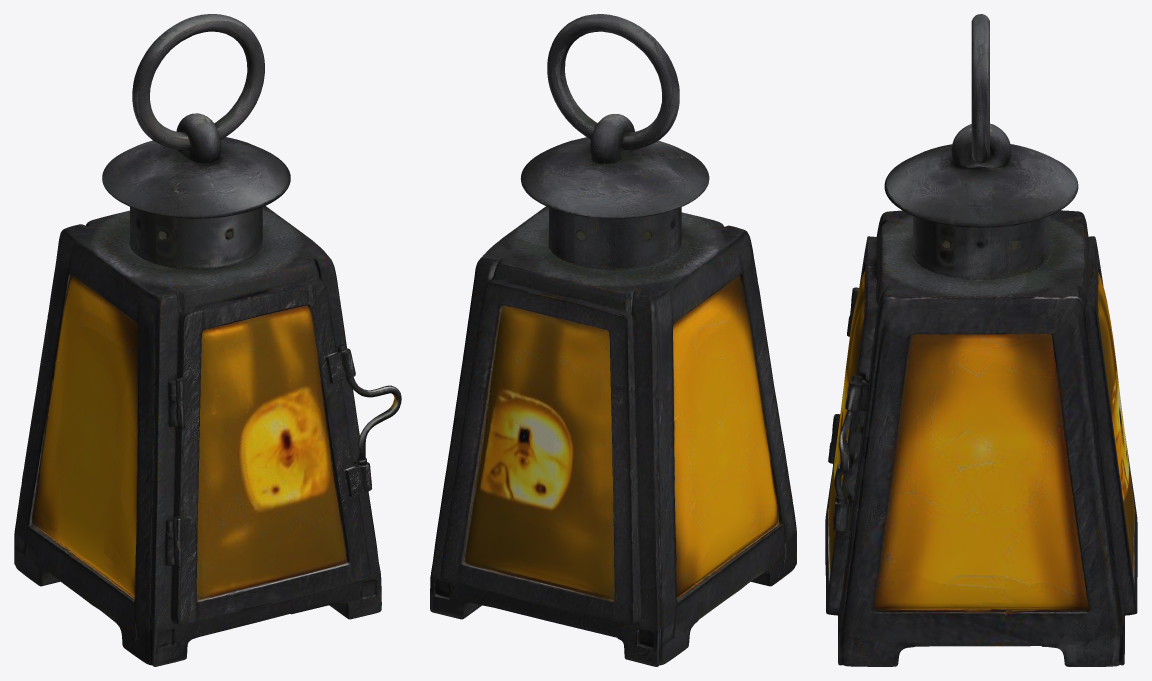
The model's file is sv_amberlantern.glb.
The picture shows the model from 3 angles, left to right: view 1: azimuth 30°, elevation 25°; view 2: azimuth 150°, elevation 25°; view 3: azimuth 270°, elevation 25°; orthographic projection. The views are drawn at different scales.
Bounding box in the file's own units: 0.8822 × 1.9 × 0.9144.
1 material, 1 textured.
